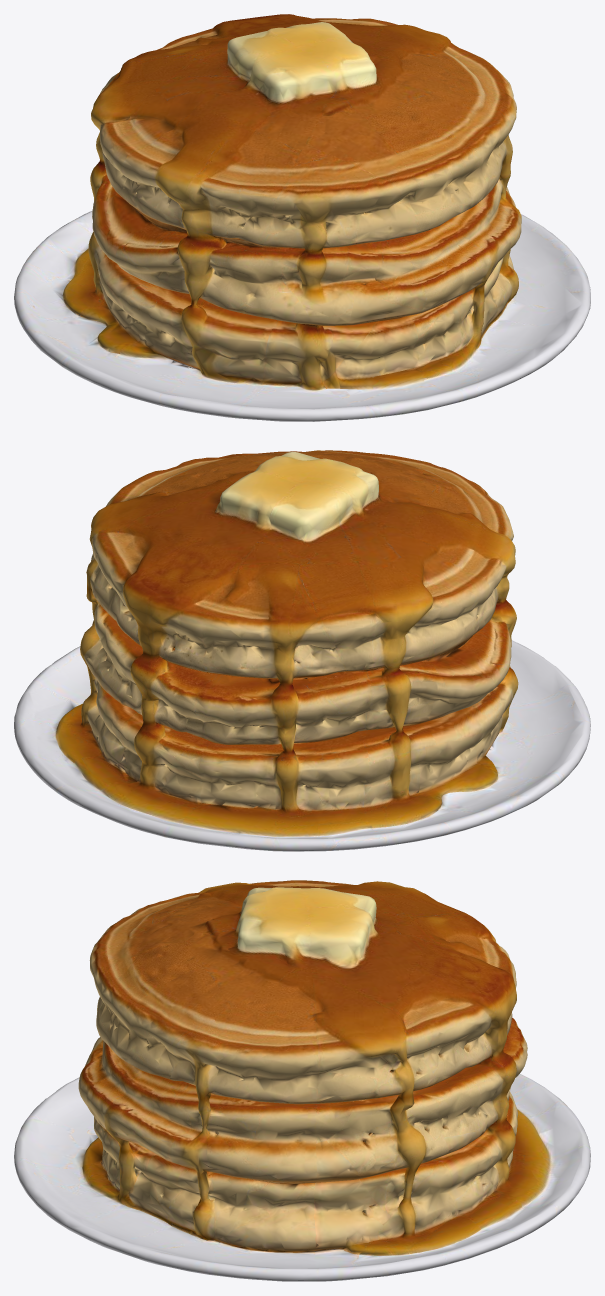
The model's file is pancake-stack.glb.
3 renders of one model, top to bottom at view 1: azimuth 30°, elevation 25°; view 2: azimuth 150°, elevation 25°; view 3: azimuth 270°, elevation 25°, orthographic.
Visible parts, largest first — view 1: mesh_node; view 2: mesh_node; view 3: mesh_node.
Boxes of the visible parts, x1,y1,x2,y2 form: mesh_node: (14,14,590,421); mesh_node: (14,450,590,851); mesh_node: (14,880,590,1281).
Size of the model in its own units: 1.9 by 0.9656 by 1.9.
Materials: 1 (1 with a texture image).
